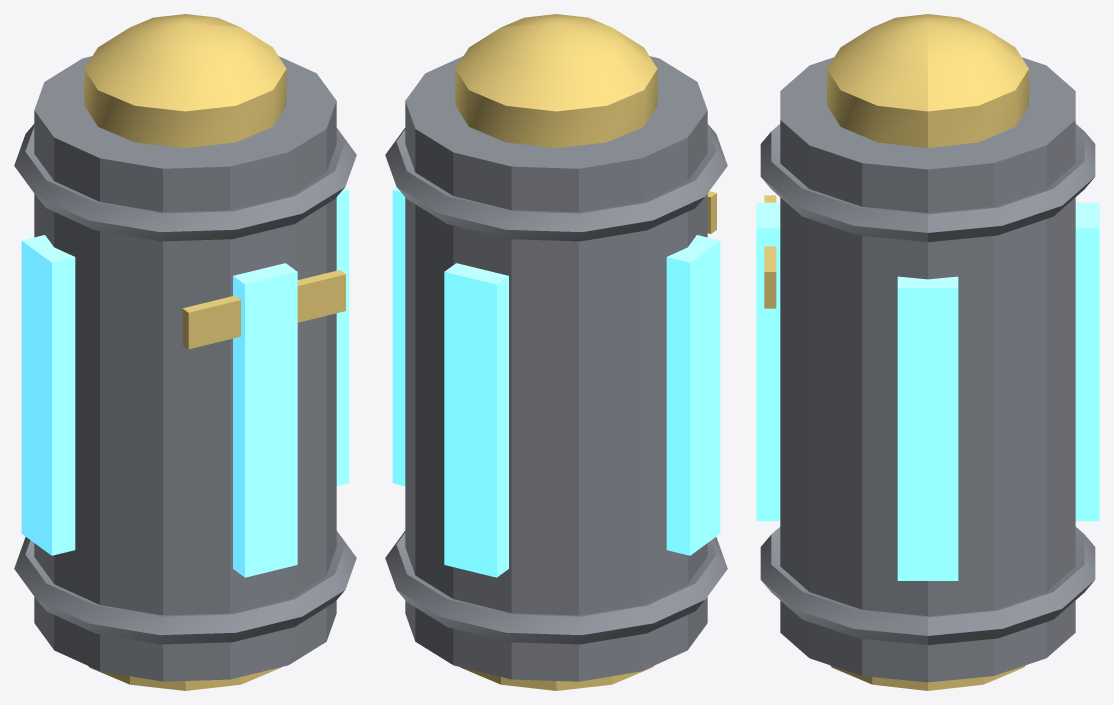
The model's file is pickups-and-collectibles-battery-cell-3603af16__19908.glb.
3 views of the same model, side by side, from view 1: azimuth 30°, elevation 25°; view 2: azimuth 150°, elevation 25°; view 3: azimuth 270°, elevation 25° (orthographic).
Visible parts, largest first — view 1: body/iron, body/gem, body/gold; view 2: body/iron, body/gem, body/gold; view 3: body/iron, body/gem, body/gold.
Boxes of the visible parts, x1,y1,x2,y2 form: body/iron: (14, 56, 356, 681); body/gem: (21, 187, 349, 577); body/gold: (84, 14, 345, 690); body/iron: (385, 56, 727, 681); body/gem: (392, 187, 720, 577); body/gold: (455, 14, 716, 690); body/iron: (760, 57, 1095, 682); body/gem: (756, 202, 1099, 580); body/gold: (764, 14, 1028, 690).
Bounding box in the file's own units: 0.17 × 0.339 × 0.17.
